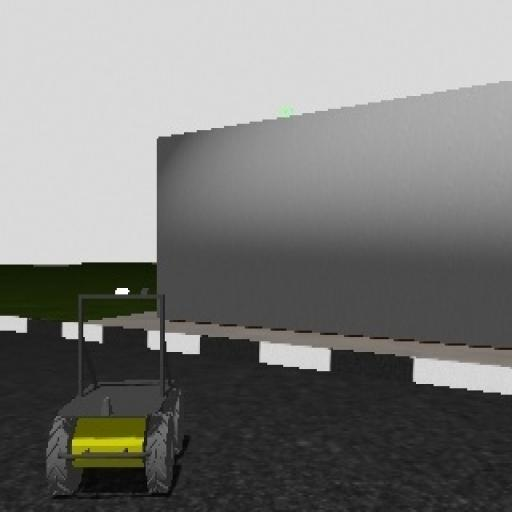huskya200: (37, 284, 191, 496)
